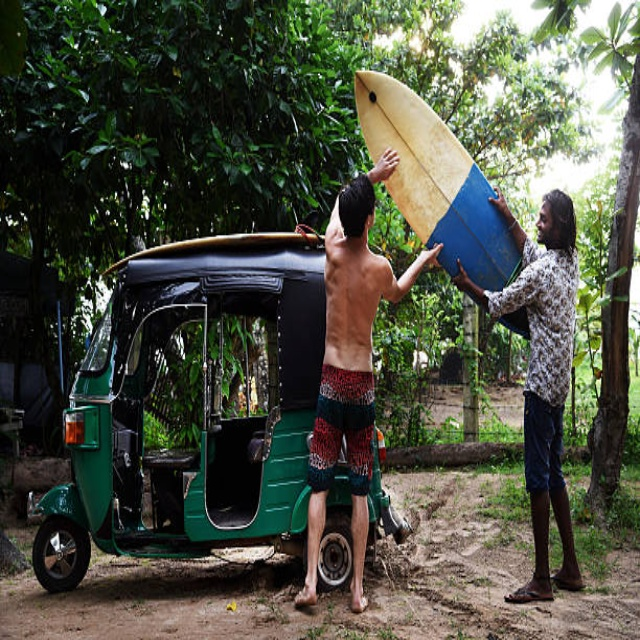Motorcycle: (30, 248, 394, 588)
